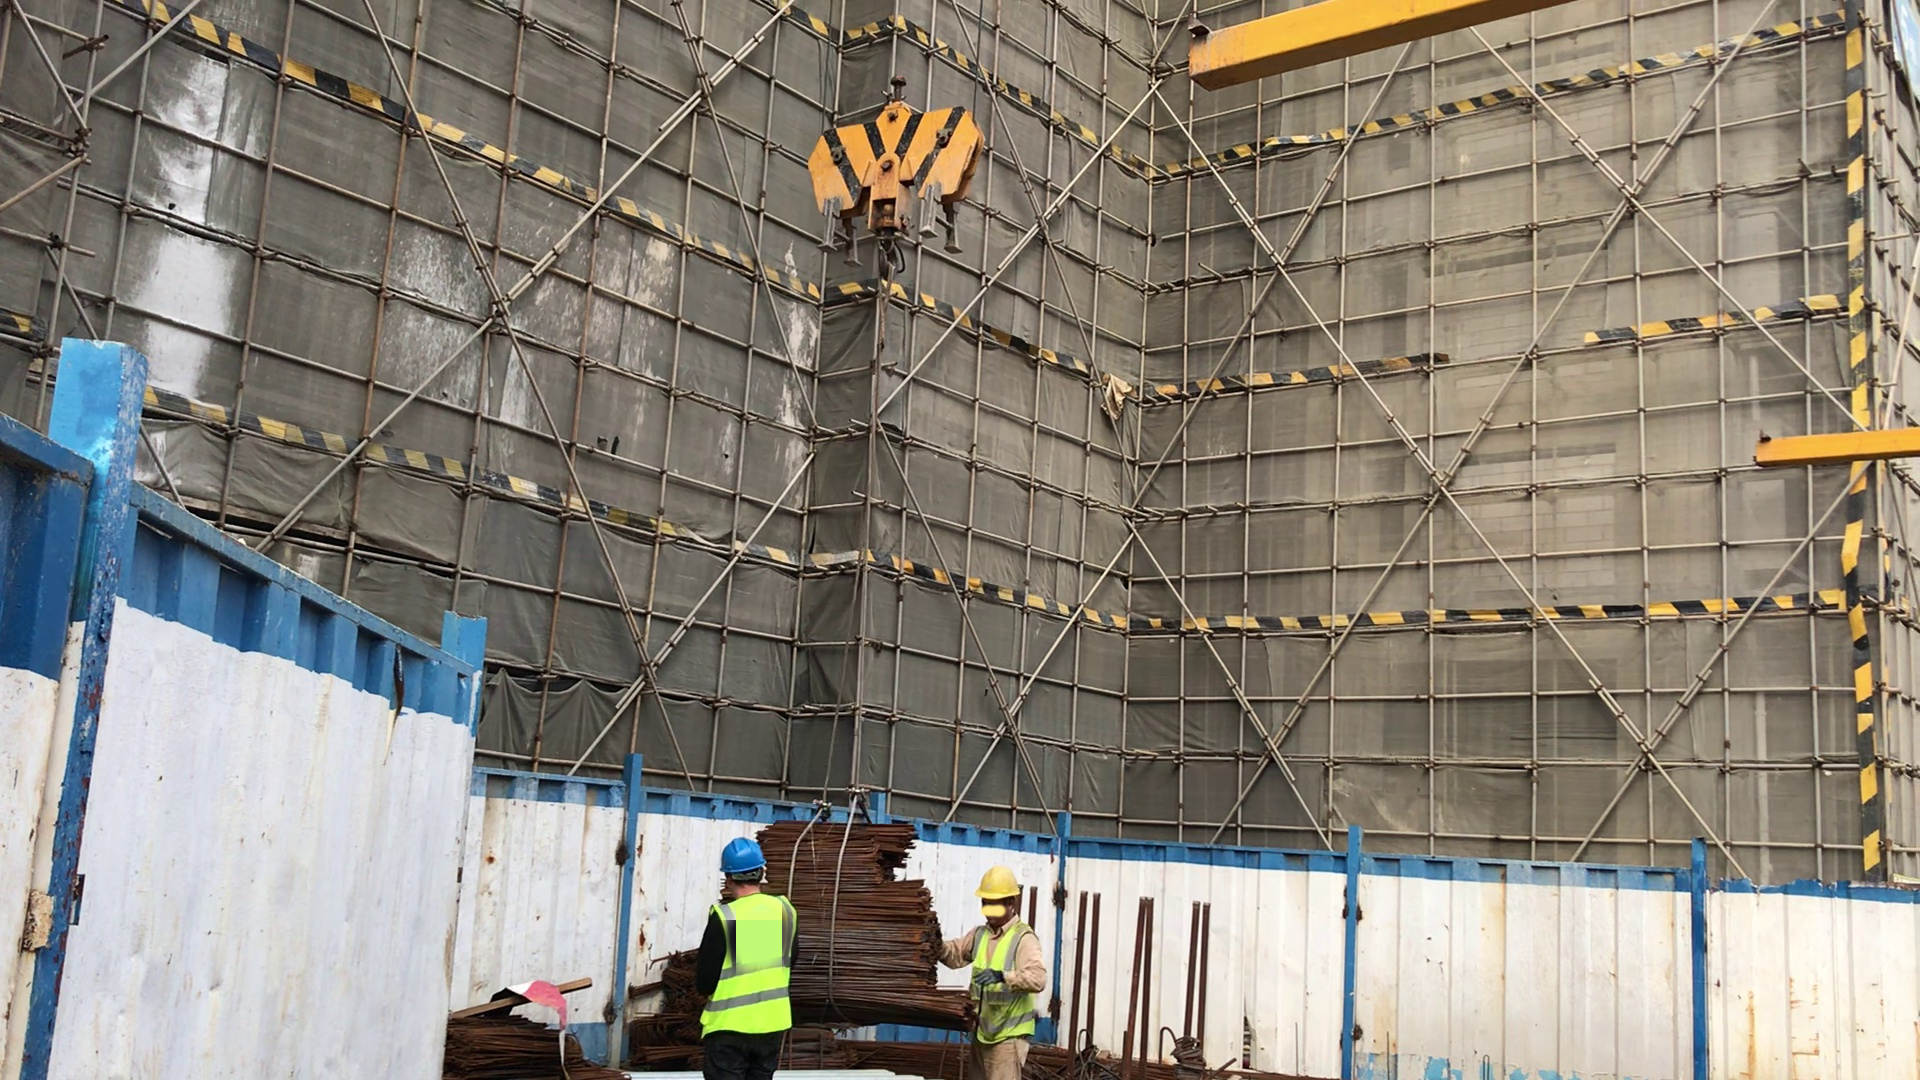helmet: (715, 837, 776, 884), (974, 864, 1026, 908)
hook: (793, 78, 992, 293)
person: (686, 828, 803, 1080), (943, 858, 1051, 1079)
vest: (708, 902, 794, 1035), (968, 927, 1032, 1035)
